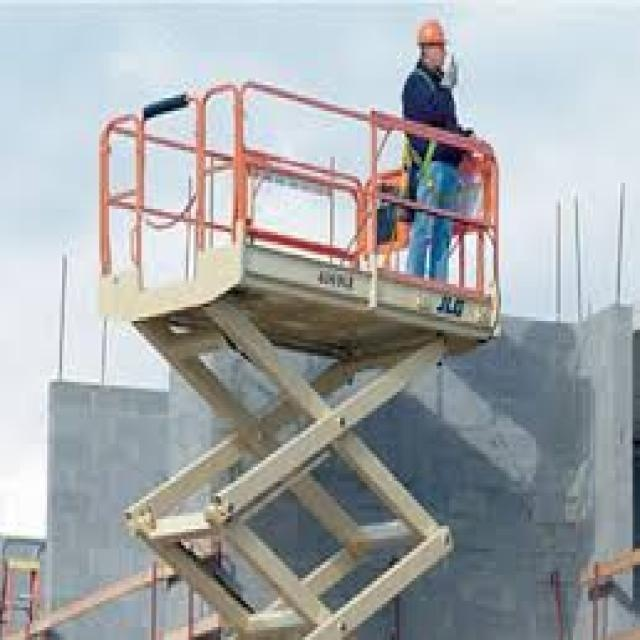Arnes_seguridad: (401, 66, 459, 211)
